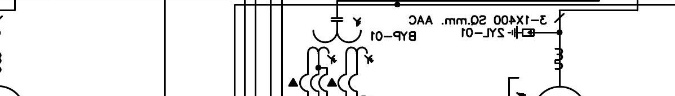115_cvt_3p: (307, 17, 374, 65)
115_la: (507, 25, 535, 40)
